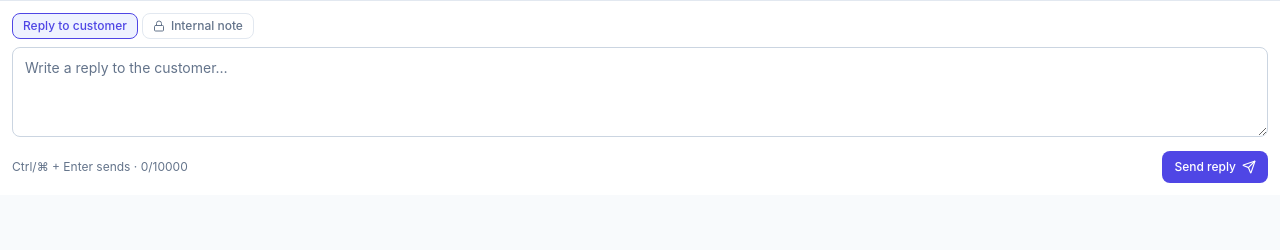
MessageComposer › keeps the typed text and reports the failure when the server rejects it
The width and height of the screenshot is (1280, 250).
In the text box: point(640, 92) [12,47,1268,137], type "Draft that matters"
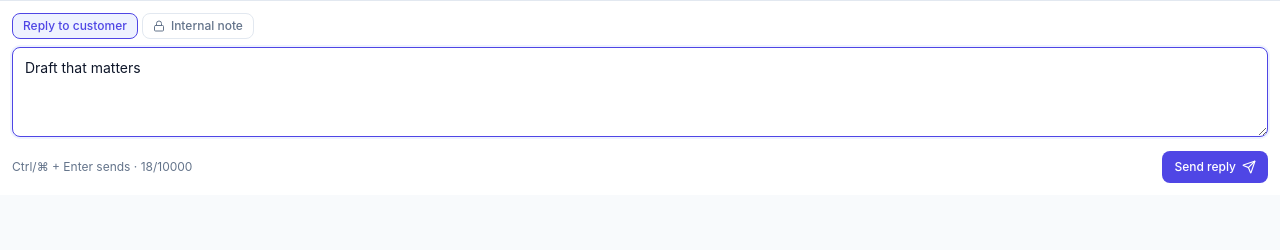
Click the button "Send reply": point(1215, 167) [1162,151,1268,183]
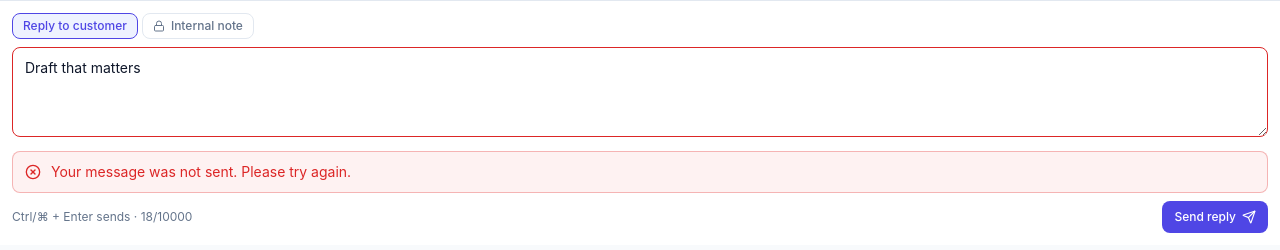
Expected: the text "Your message was not sent. Please try again." is shown, [51,162,351,182]
